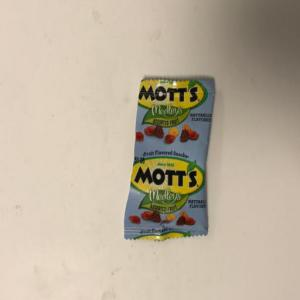Trash: (124, 76, 218, 244)
